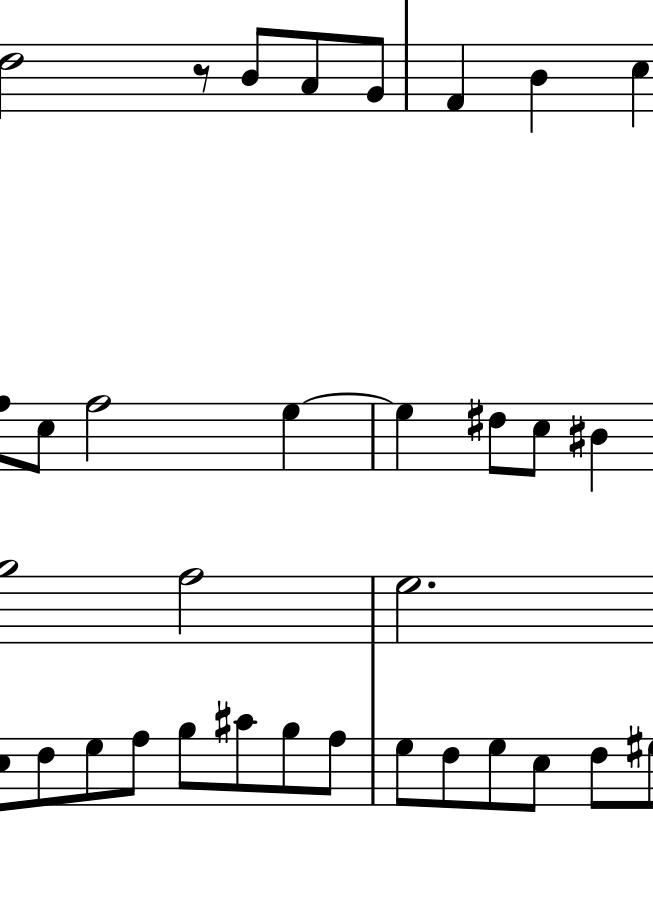2_7: (393, 574, 423, 648)
2_8: (175, 567, 207, 649), (85, 394, 112, 471)
4_1: (444, 42, 467, 113)
4_4: (526, 42, 550, 136)
4_5: (626, 43, 649, 132)
4_7: (280, 404, 304, 470), (392, 402, 414, 472)
8_10: (234, 713, 265, 807)
8_2: (362, 35, 388, 113)
8_3: (298, 30, 323, 115)
8_4: (588, 401, 614, 495), (240, 27, 267, 115)
8_5: (29, 400, 58, 475), (524, 402, 550, 478), (526, 737, 551, 815)
8_6: (484, 402, 510, 478), (586, 736, 611, 813), (35, 736, 58, 813), (441, 736, 461, 813)
8_7: (485, 736, 507, 812), (395, 738, 418, 807), (81, 737, 104, 806)
8_8: (121, 727, 150, 807), (318, 730, 348, 807)
8_9: (176, 722, 199, 808), (279, 721, 300, 810)
Rests8: (190, 62, 213, 98)
Sharp: (567, 415, 588, 462), (213, 699, 234, 745), (625, 724, 644, 773), (465, 397, 484, 442)
Single_barline: (362, 737, 383, 806), (363, 575, 383, 643), (363, 403, 383, 470), (400, 43, 415, 111)
Slur: (301, 392, 391, 403)
dot: (426, 574, 438, 595)
